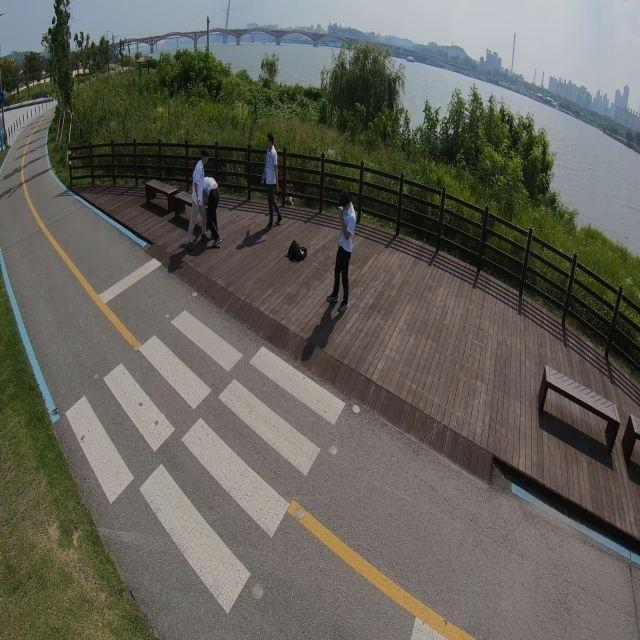fight: (186, 150, 222, 250)
non-fight: (329, 193, 357, 310), (260, 133, 283, 226)
